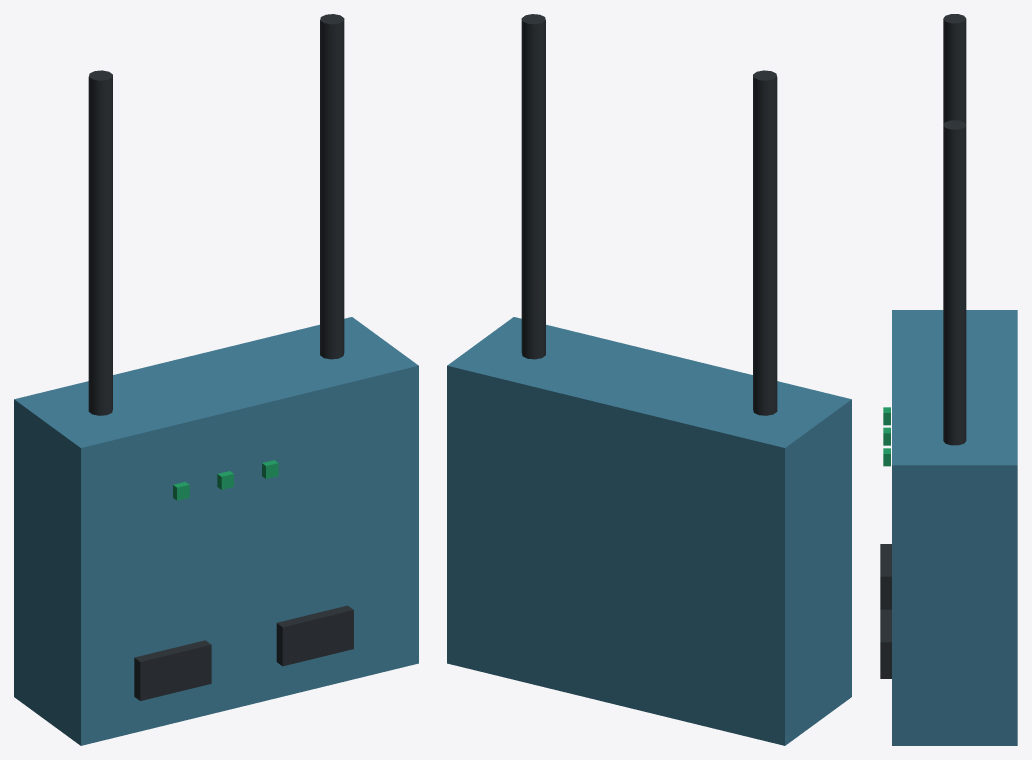
The picture shows the model from 3 angles, left to right: view 1: azimuth 30°, elevation 25°; view 2: azimuth 150°, elevation 25°; view 3: azimuth 270°, elevation 25°; orthographic projection. The views are drawn at different scales.
Visible parts, largest first — view 1: case, antenna0, antenna1, port1, port0; view 2: case, antenna0, antenna1; view 3: case, antenna1, antenna0, port1, port0.
Boxes of the visible parts, x1,y1,x2,y2 form: case: [14, 317, 418, 745]; antenna0: [88, 70, 112, 415]; antenna1: [320, 14, 344, 359]; port1: [276, 605, 353, 666]; port0: [134, 640, 211, 700]; case: [447, 317, 851, 745]; antenna0: [753, 70, 777, 415]; antenna1: [521, 14, 545, 359]; case: [892, 310, 1017, 745]; antenna1: [943, 120, 966, 445]; antenna0: [943, 14, 966, 124]; port1: [880, 609, 891, 678]; port0: [880, 544, 891, 609].
Bounding box in the file's own units: 0.19 × 0.34 × 0.071.
